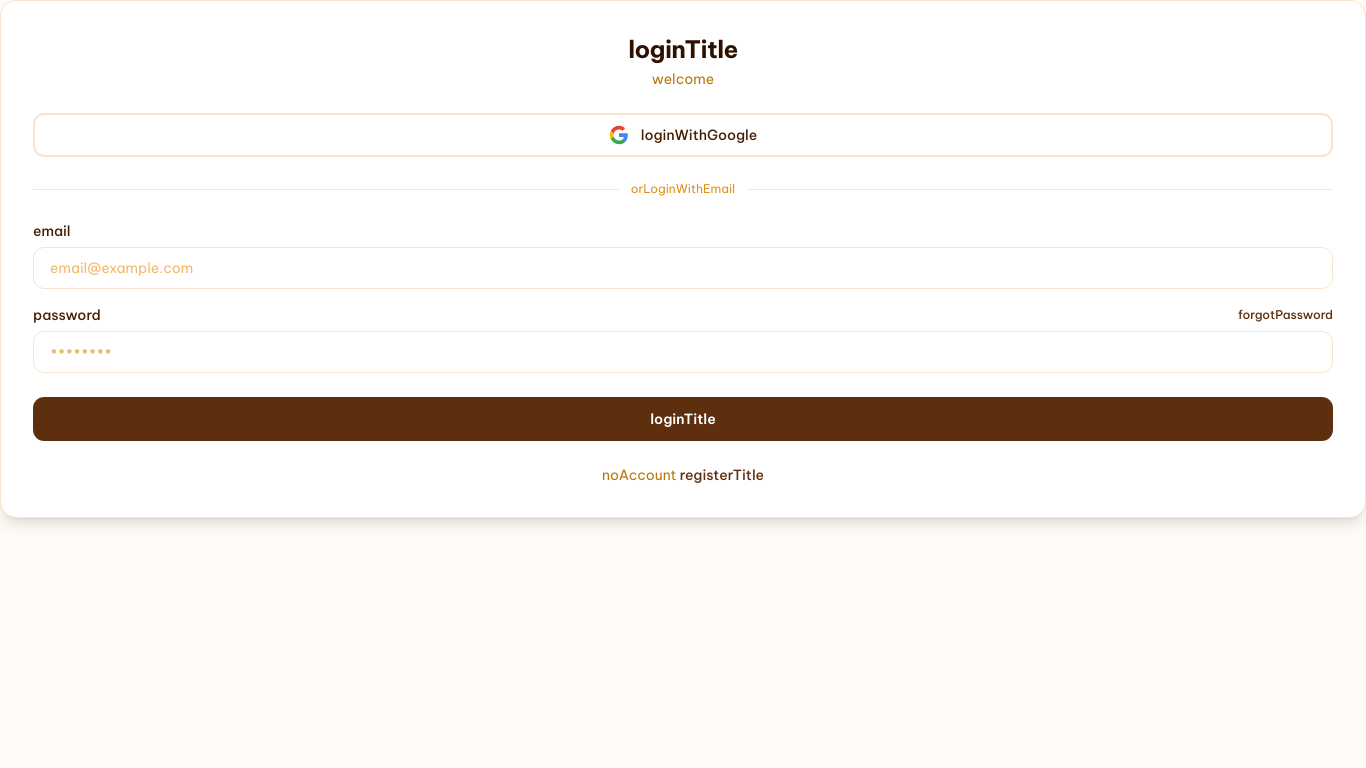
Test: LoginPage — Validation › hiển thị lỗi khi submit với email và password trống
The width and height of the screenshot is (1366, 768).
Click the button "loginTitle".
click(683, 419)  # box top-left (33, 397), bottom-right (1333, 441)
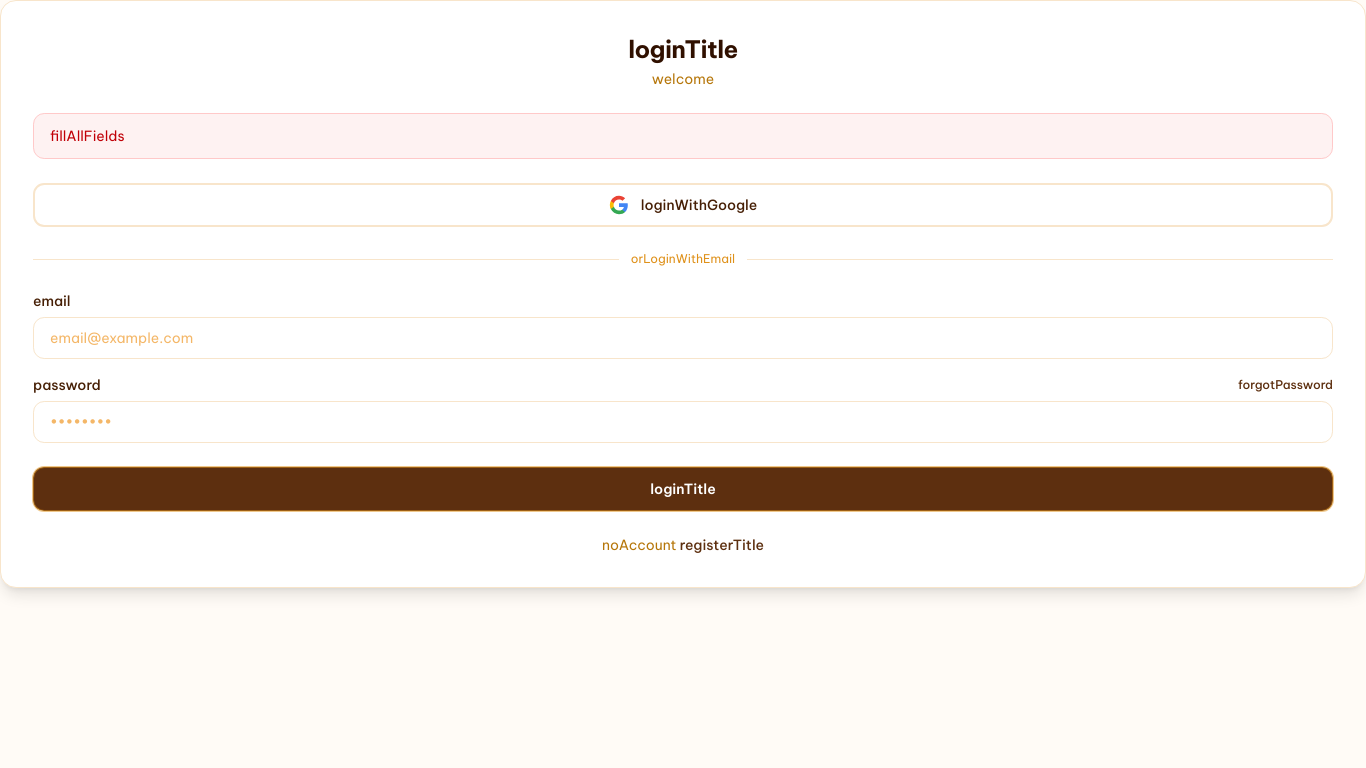
Expected: the text "fillAllFields" is shown, top-left (33, 113), bottom-right (1333, 159)
